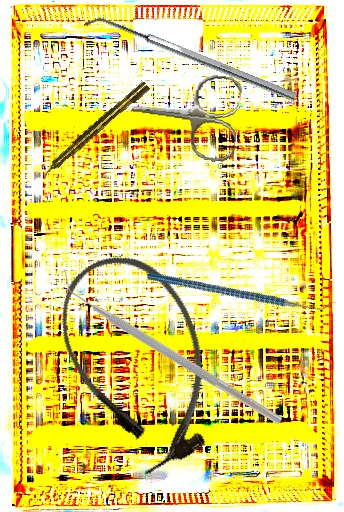Cannula: (40, 236, 238, 487)
Chopper: (63, 267, 282, 425), (144, 212, 339, 368)
Handpiece: (37, 79, 152, 182)
Iris Scissors: (121, 64, 244, 164)
Spatula Surgical: (83, 9, 298, 110)
